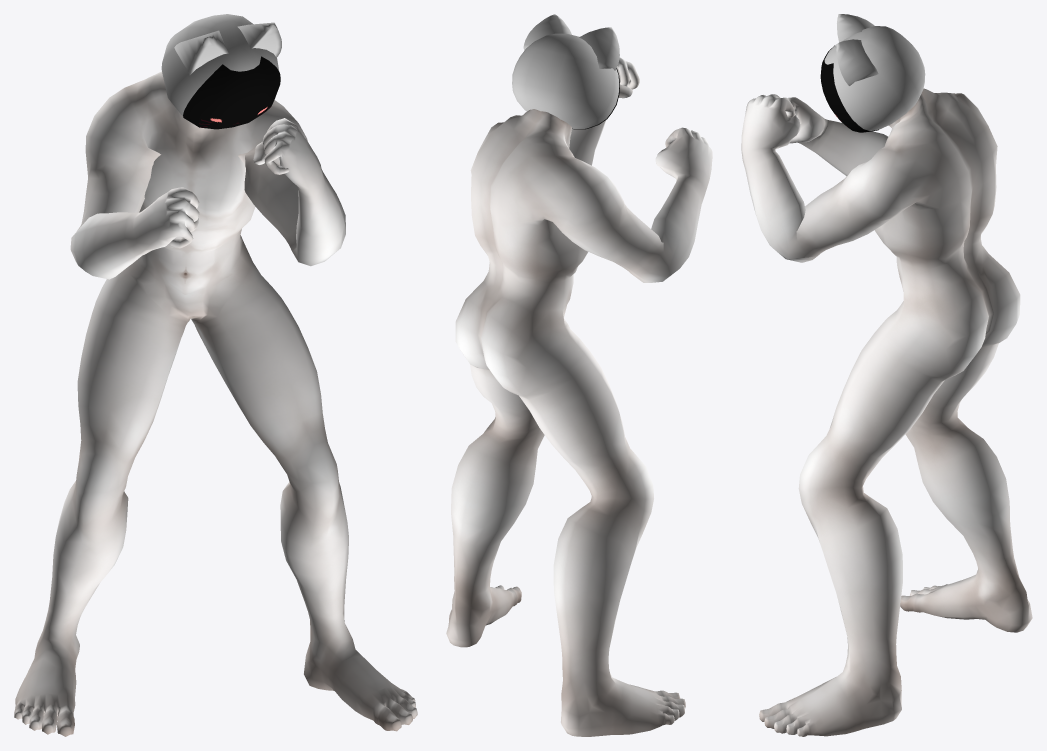
3 views of the same model, side by side, from view 1: azimuth 30°, elevation 25°; view 2: azimuth 150°, elevation 25°; view 3: azimuth 270°, elevation 25° (orthographic). The views are drawn at different scales.
Parts seen in each view (by area): view 1: Muscle_Body, Cat_Head, ______?001; view 2: Muscle_Body, Cat_Head; view 3: Muscle_Body, Cat_Head, ______?001.
Part boxes in pixels (x1,y1,x2,y2): Muscle_Body: (14,71,417,736); Cat_Head: (161,14,281,116); ______?001: (183,56,280,129); Muscle_Body: (446,57,712,736); Cat_Head: (512,14,619,128); Muscle_Body: (741,88,1032,736); Cat_Head: (824,14,925,130); ______?001: (820,45,878,132).
Bounding box in the file's own units: 12.71 × 26.85 × 11.02.
